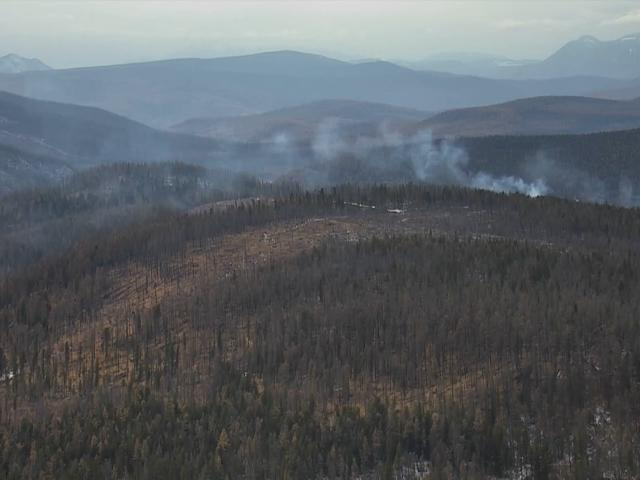smoke: (311, 107, 551, 202)
